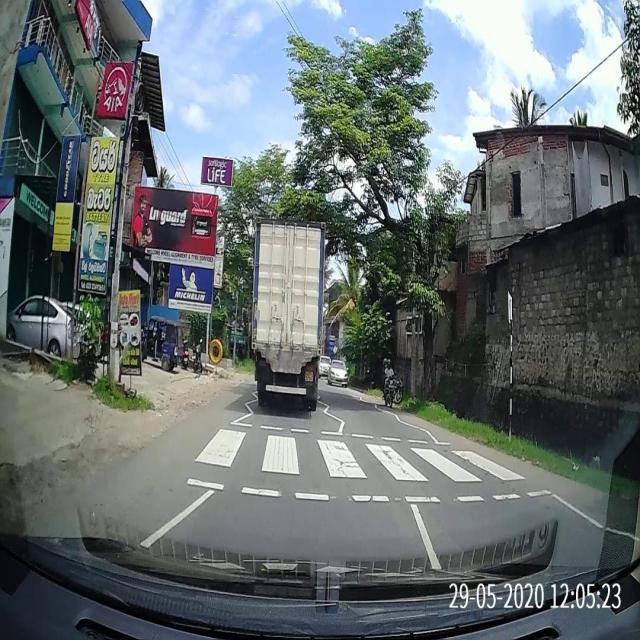Liniya 1: (137, 488, 217, 550), (409, 504, 443, 572), (551, 492, 606, 530)
Perehod: (192, 427, 529, 485)
